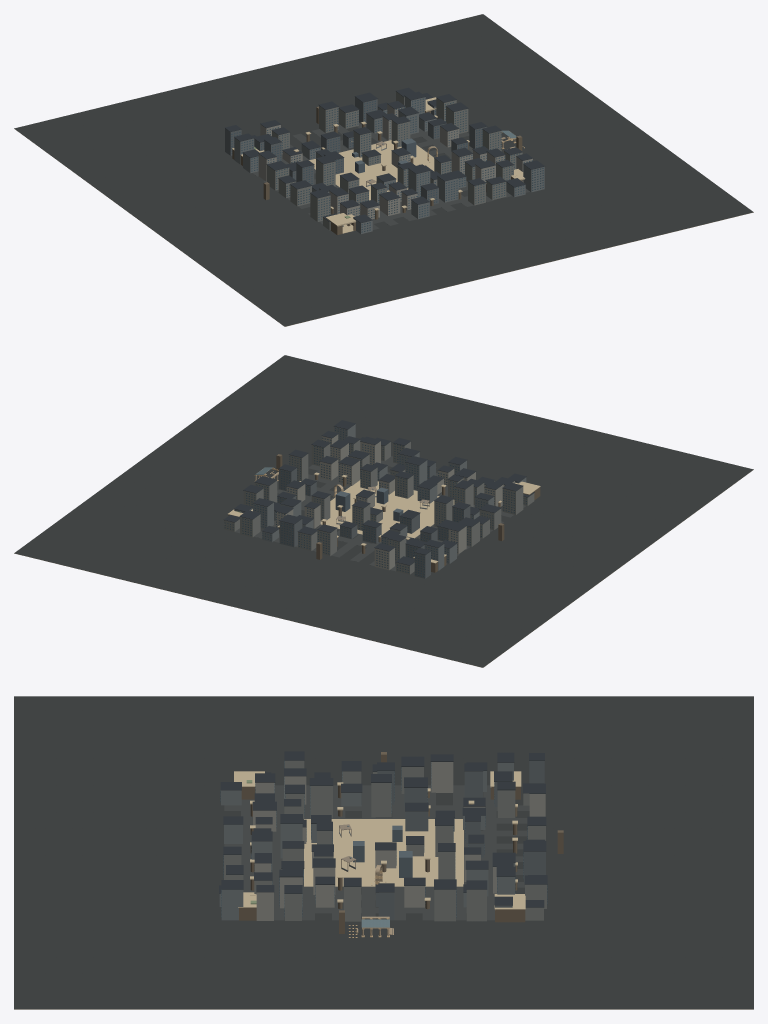
3 renders of one model, top to bottom at view 1: azimuth 30°, elevation 25°; view 2: azimuth 150°, elevation 25°; view 3: azimuth 270°, elevation 25°, orthographic. The views are drawn at different scales.
Visible parts, largest first — view 1: Runtime FPV textured terrain ruins, Runtime Material_2, Runtime Material_12, Runtime Material_4, Runtime Material_3, Runtime Material_9, Runtime Material_1, Runtime ruins_2_0_0, Runtime Material_167, Runtime ruins_1_0_0, Runtime ruins_0_0_0; view 2: Runtime FPV textured terrain ruins, Runtime Material_2, Runtime Material_12, Runtime Material_9, Runtime Material_3, Runtime Material_1, Runtime Material_4, Runtime ruins_2_0_0, Runtime Material_167, Runtime ruins_1_0_0, Runtime Material_168, Runtime ruins_0_0_0; view 3: Runtime FPV textured terrain ruins, Runtime Material_2, Runtime Material_167, Runtime Material_12, Runtime ruins_2_0_0, Runtime Material_9, Runtime Material_4, Runtime Material_1, Runtime ruins_1_0_0, Runtime Material_168, Runtime Material_3, Runtime ruins_0_0_0.
Boxes of the visible parts, x1=… form: Runtime FPV textured terrain ruins: x1=14, y1=14, x2=753, y2=326; Runtime Material_2: x1=225, y1=87, x2=544, y2=222; Runtime Material_12: x1=267, y1=91, x2=522, y2=230; Runtime Material_4: x1=234, y1=96, x2=544, y2=233; Runtime Material_3: x1=231, y1=98, x2=543, y2=232; Runtime Material_9: x1=258, y1=104, x2=532, y2=224; Runtime Material_1: x1=225, y1=97, x2=486, y2=205; Runtime ruins_2_0_0: x1=232, y1=97, x2=525, y2=233; Runtime Material_167: x1=253, y1=122, x2=529, y2=229; Runtime ruins_1_0_0: x1=232, y1=106, x2=522, y2=234; Runtime ruins_0_0_0: x1=15, y1=129, x2=753, y2=326; Runtime FPV textured terrain ruins: x1=14, y1=355, x2=753, y2=667; Runtime Material_2: x1=224, y1=420, x2=534, y2=565; Runtime Material_12: x1=224, y1=440, x2=534, y2=574; Runtime Material_9: x1=275, y1=434, x2=514, y2=570; Runtime Material_3: x1=224, y1=427, x2=526, y2=576; Runtime Material_1: x1=234, y1=462, x2=470, y2=578; Runtime Material_4: x1=253, y1=424, x2=526, y2=570; Runtime ruins_2_0_0: x1=228, y1=472, x2=540, y2=563; Runtime Material_167: x1=235, y1=456, x2=525, y2=571; Runtime ruins_1_0_0: x1=228, y1=454, x2=540, y2=572; Runtime Material_168: x1=335, y1=487, x2=403, y2=521; Runtime ruins_0_0_0: x1=14, y1=470, x2=752, y2=667; Runtime FPV textured terrain ruins: x1=14, y1=696, x2=753, y2=1009; Runtime Material_2: x1=219, y1=751, x2=547, y2=907; Runtime Material_167: x1=224, y1=785, x2=529, y2=920; Runtime Material_12: x1=224, y1=760, x2=546, y2=921; Runtime ruins_2_0_0: x1=234, y1=771, x2=525, y2=909; Runtime Material_9: x1=253, y1=762, x2=545, y2=920; Runtime Material_4: x1=219, y1=762, x2=514, y2=920; Runtime Material_1: x1=376, y1=761, x2=545, y2=920; Runtime ruins_1_0_0: x1=239, y1=752, x2=563, y2=933; Runtime Material_168: x1=353, y1=825, x2=412, y2=877; Runtime Material_3: x1=220, y1=761, x2=547, y2=917; Runtime ruins_0_0_0: x1=14, y1=1009, x2=753, y2=1009.
Size of the model in its own units: 880 by 46.56 by 880.
Materials: 23 (7 with a texture image).
